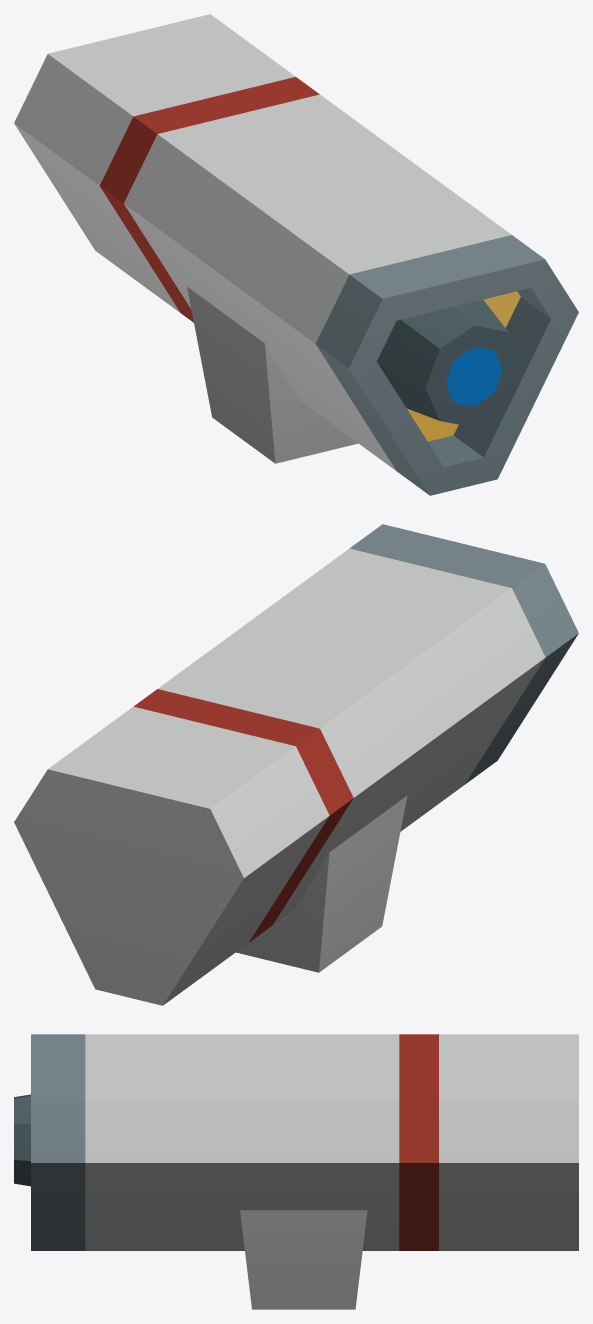
File: Cam_007.fbx
3 views of the same model, one above another, from view 1: azimuth 30°, elevation 25°; view 2: azimuth 150°, elevation 25°; view 3: azimuth 270°, elevation 25° (orthographic). The views are drawn at different scales.
Visible parts, largest first — view 1: Cam_007; view 2: Cam_007; view 3: Cam_007.
Part boxes in pixels (x1,y1,x2,y2): Cam_007: (14,14,578,495); Cam_007: (14,524,578,1005); Cam_007: (14,1034,578,1309).
Size of the model in its own units: 14.89 by 38.7 by 16.73.
